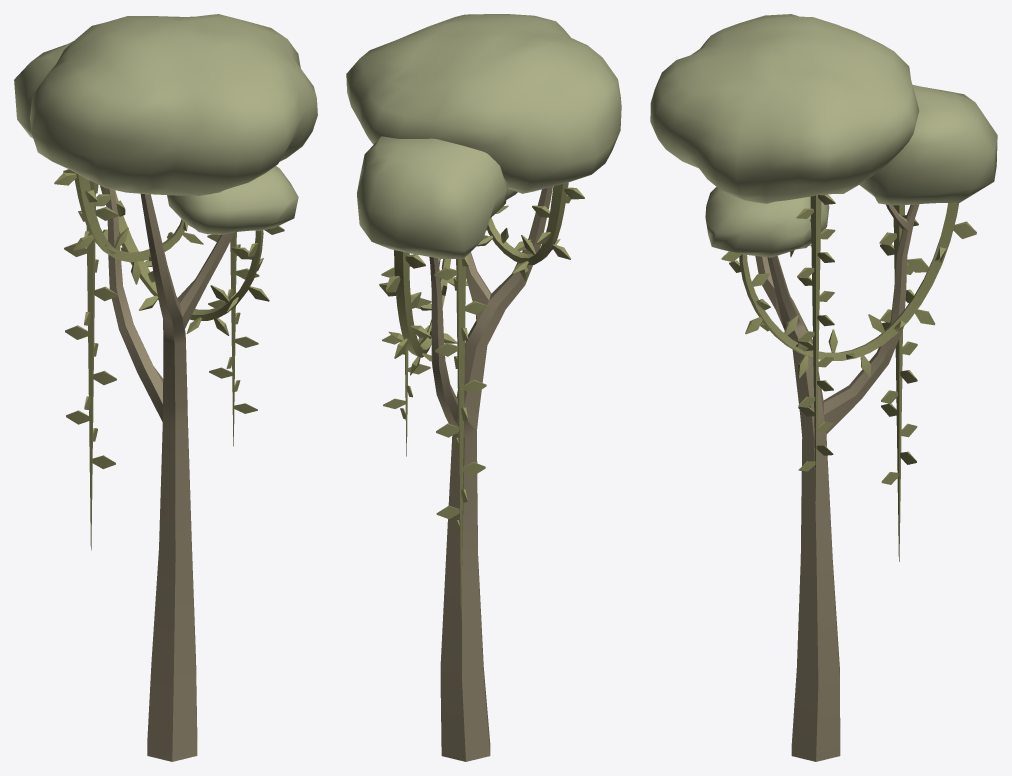
The model's file is skinny tree with vines.fbx.
The picture shows the model from 3 angles, left to right: view 1: azimuth 30°, elevation 25°; view 2: azimuth 150°, elevation 25°; view 3: azimuth 270°, elevation 25°; orthographic projection. The views are drawn at different scales.
Visible parts, largest first — view 1: polySurface4, vine6; view 2: polySurface4, vine6; view 3: polySurface4, vine6.
Boxes of the visible parts, bbox=[...] form: polySurface4: bbox=[14, 14, 317, 761]; vine6: bbox=[54, 169, 284, 550]; polySurface4: bbox=[346, 14, 621, 761]; vine6: bbox=[379, 182, 584, 618]; polySurface4: bbox=[650, 14, 997, 761]; vine6: bbox=[721, 194, 976, 561].
Bounding box in the file's own units: 103 × 125 × 280.
